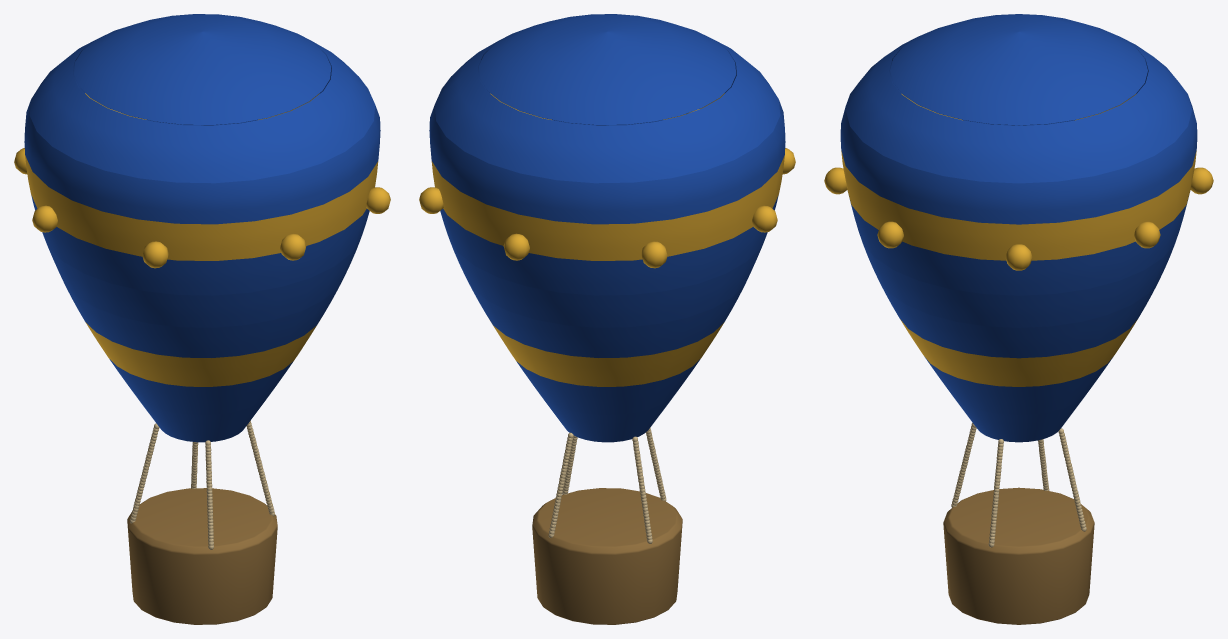
File: balloon.glb
The picture shows the model from 3 angles, left to right: view 1: azimuth 30°, elevation 25°; view 2: azimuth 150°, elevation 25°; view 3: azimuth 270°, elevation 25°; orthographic projection.
Parts seen in each view (by area): view 1: balloon; view 2: balloon; view 3: balloon.
Part boxes in pixels (x1,y1,x2,y2): balloon: (14,14,390,624); balloon: (419,14,795,624); balloon: (824,14,1213,624).
Bounding box in the file's own units: 1.44 × 2.3 × 1.44.
